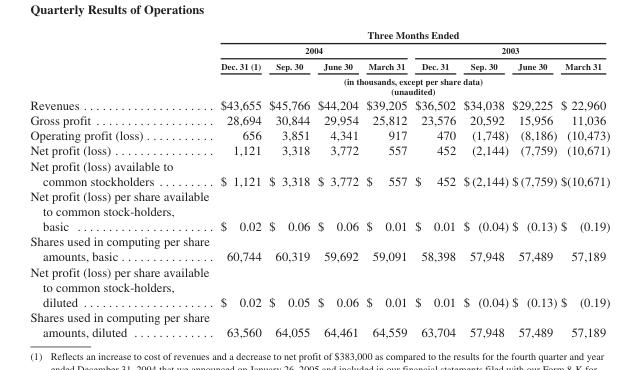table: (29, 28, 609, 338)
table column: (29, 28, 214, 338), (458, 28, 509, 338), (558, 28, 609, 338), (214, 28, 264, 338), (264, 28, 313, 338), (361, 28, 410, 338), (509, 28, 558, 338), (313, 28, 361, 338), (410, 28, 458, 338)
table column header: (29, 28, 609, 96)
table row: (29, 187, 609, 233), (29, 263, 609, 309), (29, 157, 609, 187), (29, 233, 609, 263), (29, 309, 609, 338), (29, 72, 609, 96), (29, 96, 609, 112), (29, 42, 609, 57), (29, 57, 609, 72), (29, 112, 609, 127), (29, 127, 609, 142), (29, 142, 609, 157), (29, 28, 609, 42)
table spanning cell: (214, 72, 609, 96), (214, 28, 609, 42), (410, 42, 609, 57), (214, 42, 410, 57)
